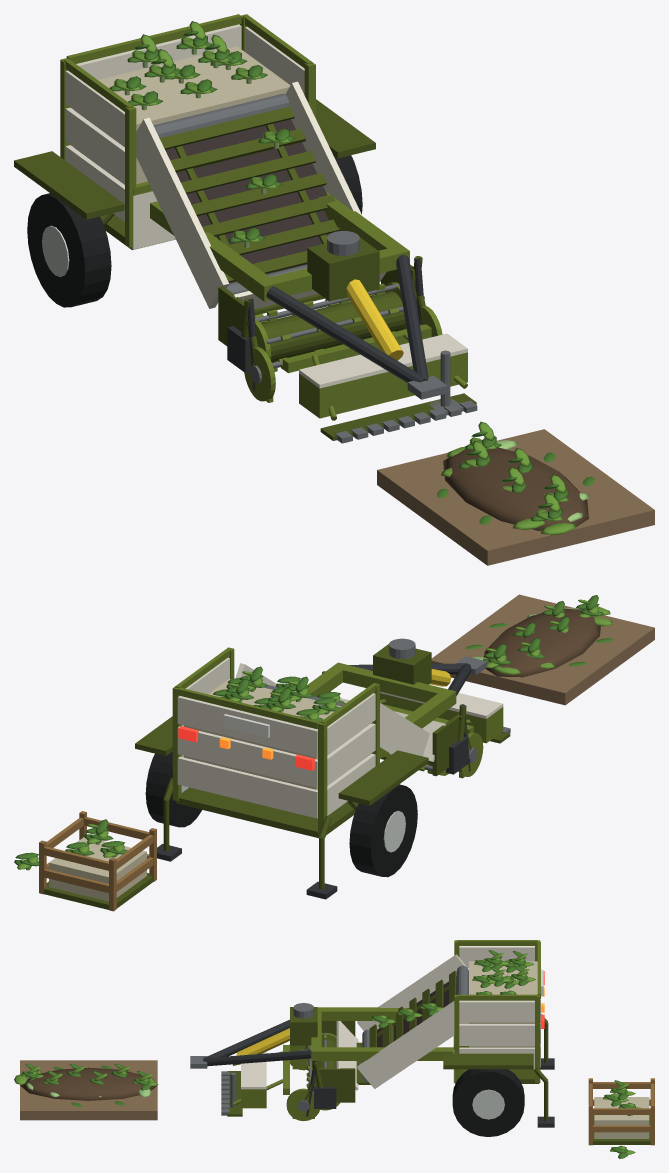
The model's file is spinach_harvester.glb.
The picture shows the model from 3 angles, top to bottom: view 1: azimuth 30°, elevation 25°; view 2: azimuth 150°, elevation 25°; view 3: azimuth 270°, elevation 25°; orthographic projection. The views are drawn at different scales.
Parts seen in each view (by area): view 1: SpinachBody, SpinachProps, SpinachPickup; view 2: SpinachBody, SpinachProps; view 3: SpinachBody, SpinachProps, SpinachPickup.
Boxes of the visible parts, <box> form: SpinachBody: <box>14,14,477,443</box>; SpinachProps: <box>377,421,654,565</box>; SpinachPickup: <box>254,282,406,371</box>; SpinachBody: <box>135,638,510,899</box>; SpinachProps: <box>14,594,654,911</box>; SpinachBody: <box>190,940,554,1136</box>; SpinachProps: <box>14,1060,654,1158</box>; SpinachPickup: <box>306,1032,339,1110</box>.
Bounding box in the file's own units: 3.08 × 1.73 × 7.46.
